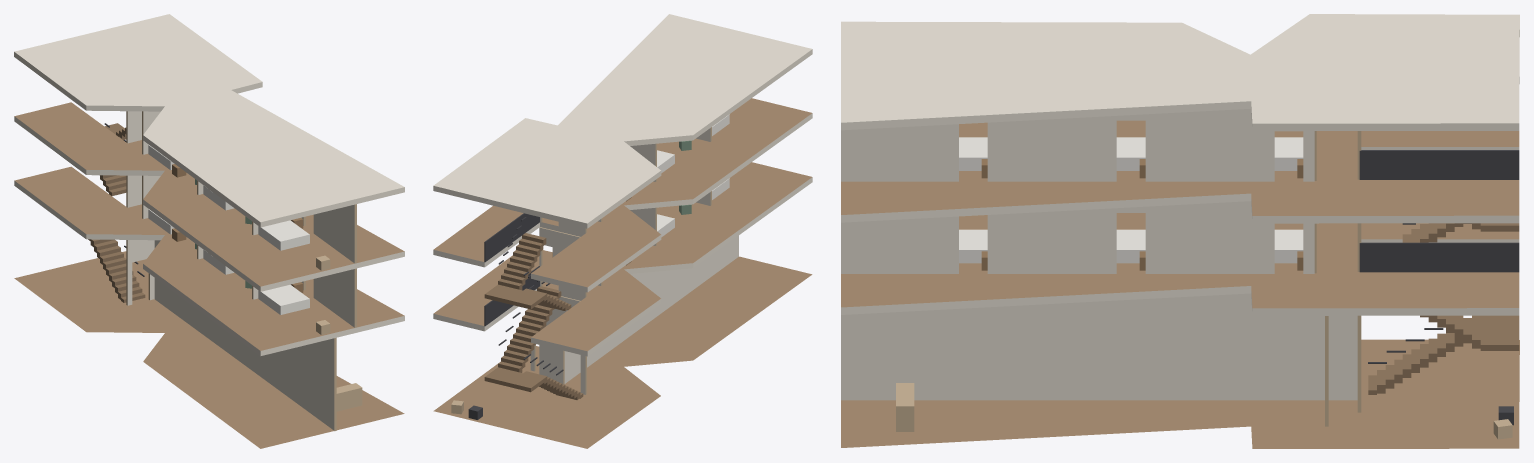
Rendered from interior.glb.
The picture shows the model from 3 angles, left to right: view 1: azimuth 30°, elevation 25°; view 2: azimuth 150°, elevation 25°; view 3: azimuth 270°, elevation 25°; orthographic projection. The views are drawn at different scales.
Parts seen in each view (by area): view 1: slabs, partitions, stair, coarse-s1, coarse-s2, coarse-s0; view 2: slabs, stair, partitions, coarse-s1, coarse-s2; view 3: slabs, partitions, stair, coarse-s1, coarse-s2, coarse-s0.
Boxes of the visible parts, bbox=[...] form: slabs: bbox=[14, 14, 404, 448]; partitions: bbox=[126, 111, 356, 431]; stair: bbox=[88, 123, 145, 302]; coarse-s1: bbox=[148, 209, 330, 334]; coarse-s2: bbox=[148, 145, 330, 270]; coarse-s0: bbox=[336, 383, 362, 411]; slabs: bbox=[433, 14, 812, 448]; stair: bbox=[484, 213, 583, 399]; partitions: bbox=[530, 127, 738, 394]; coarse-s1: bbox=[626, 178, 729, 265]; coarse-s2: bbox=[626, 114, 729, 201]; slabs: bbox=[841, 14, 1519, 448]; partitions: bbox=[841, 108, 1361, 426]; stair: bbox=[1359, 150, 1519, 394]; coarse-s1: bbox=[959, 229, 1303, 270]; coarse-s2: bbox=[959, 137, 1303, 178]; coarse-s0: bbox=[896, 383, 1513, 439].
Size of the model in its own units: 8.1 by 11.22 by 21.18.
